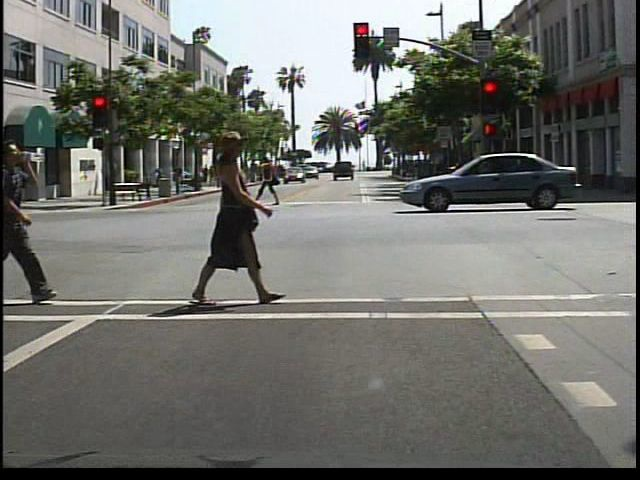person: (198, 132, 296, 312), (4, 139, 55, 309), (259, 155, 286, 209), (171, 158, 188, 197), (150, 166, 169, 192)
